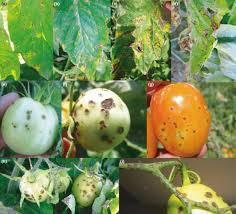tomato bacterial spot: (150, 83, 212, 160), (71, 89, 132, 158), (1, 97, 62, 157), (170, 183, 236, 214), (71, 171, 117, 214)
